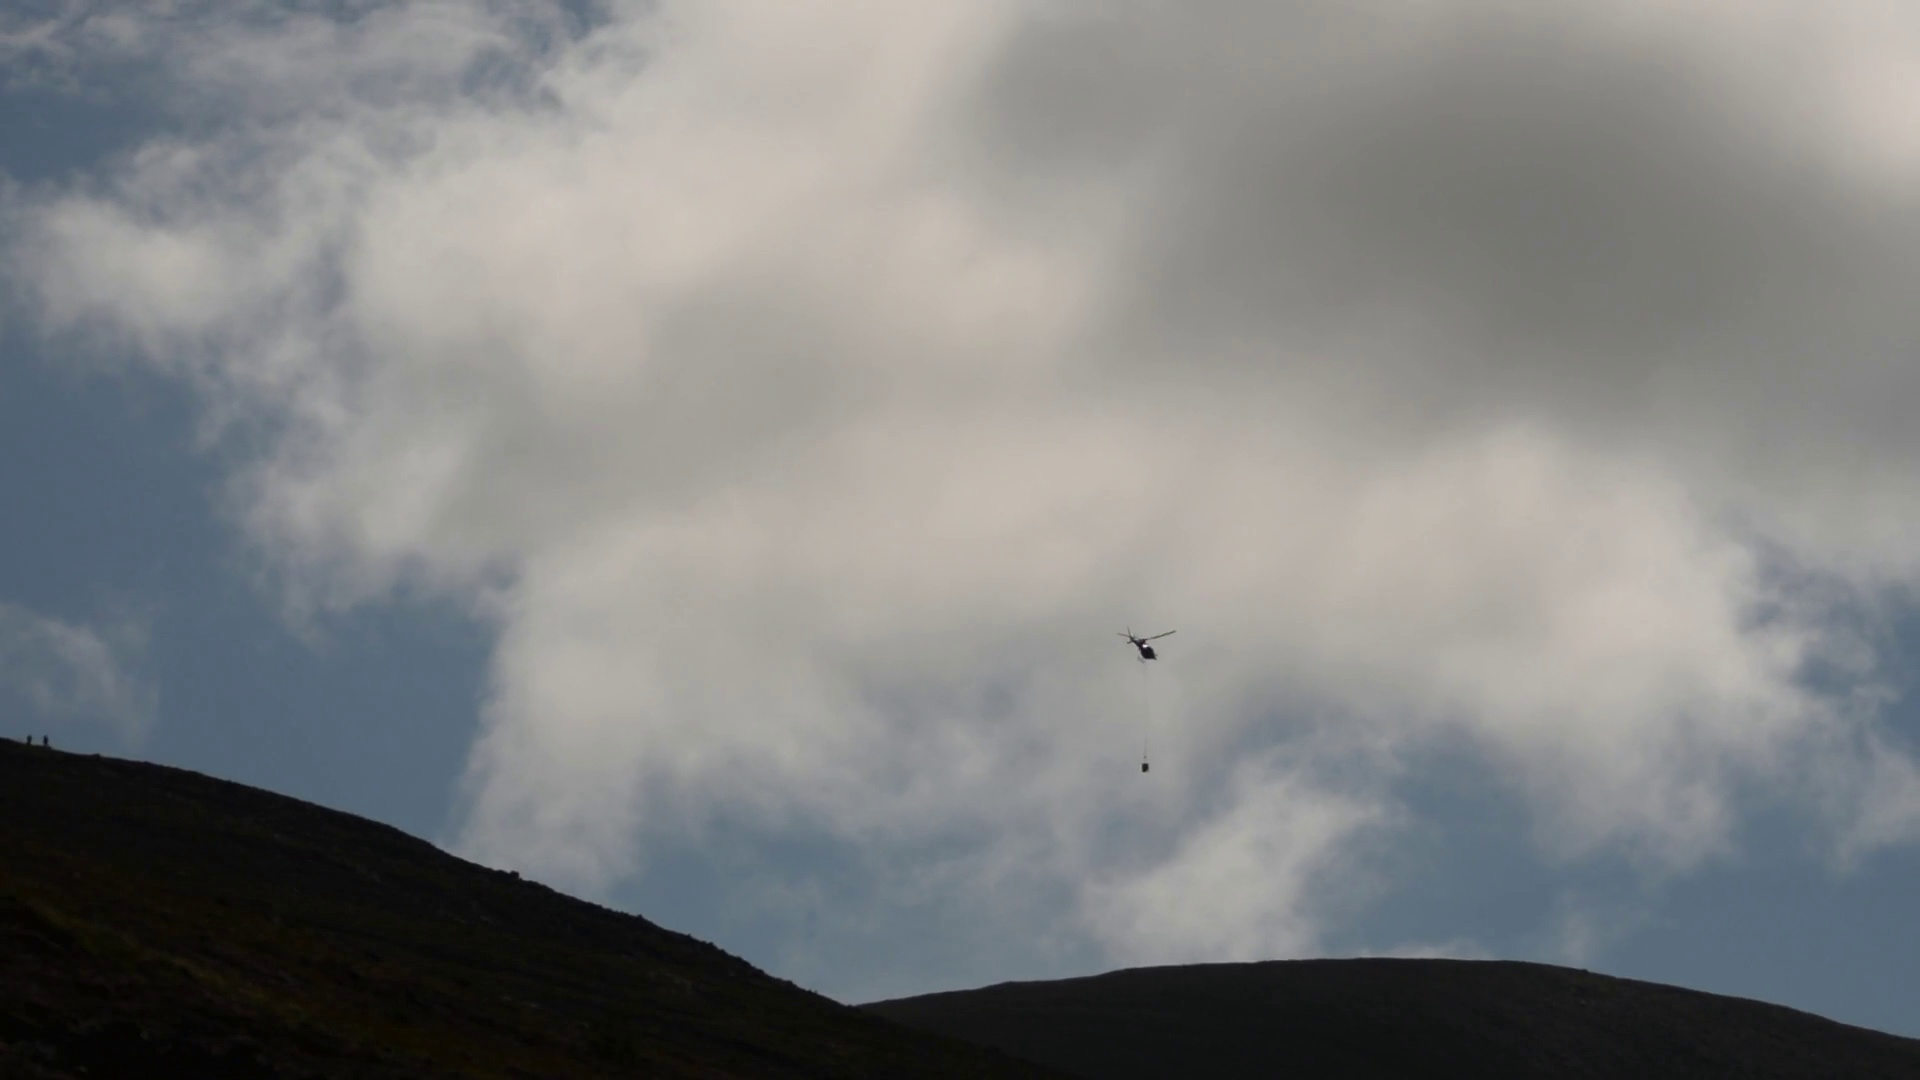heli: (1120, 622, 1178, 667)
